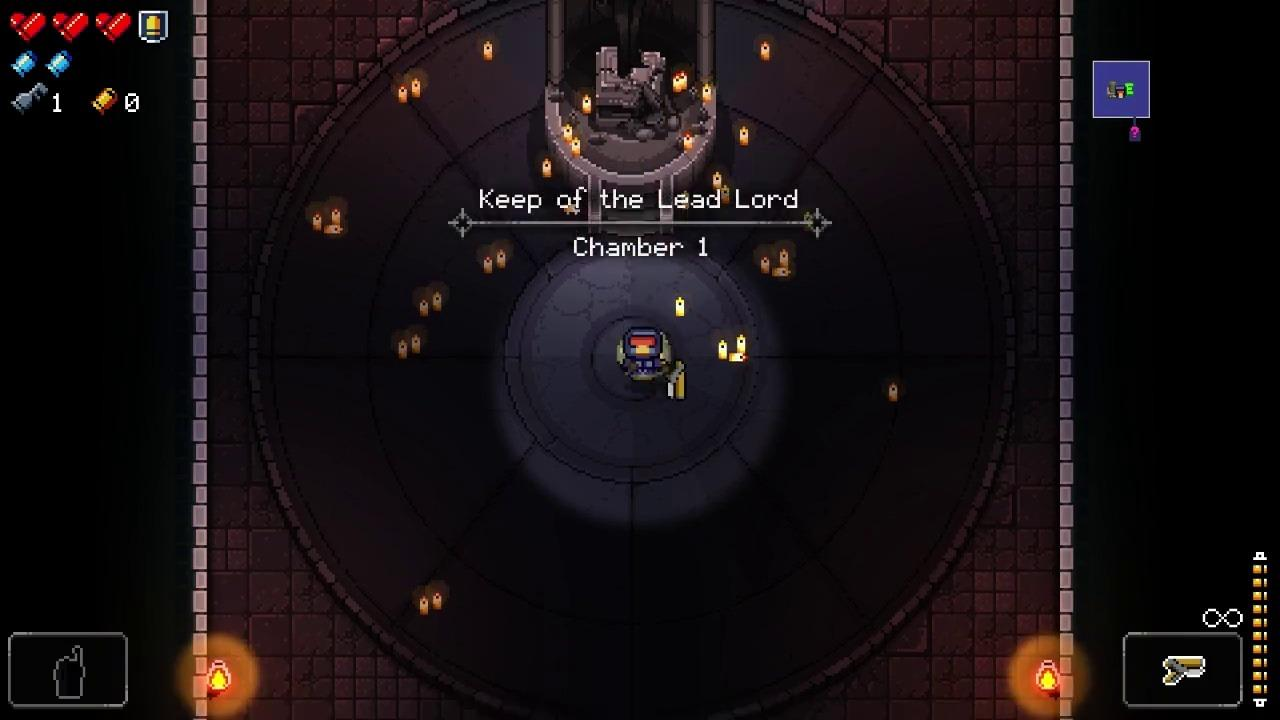player: (623, 326, 664, 380)
wall: (194, 0, 208, 720), (1059, 0, 1073, 720)
